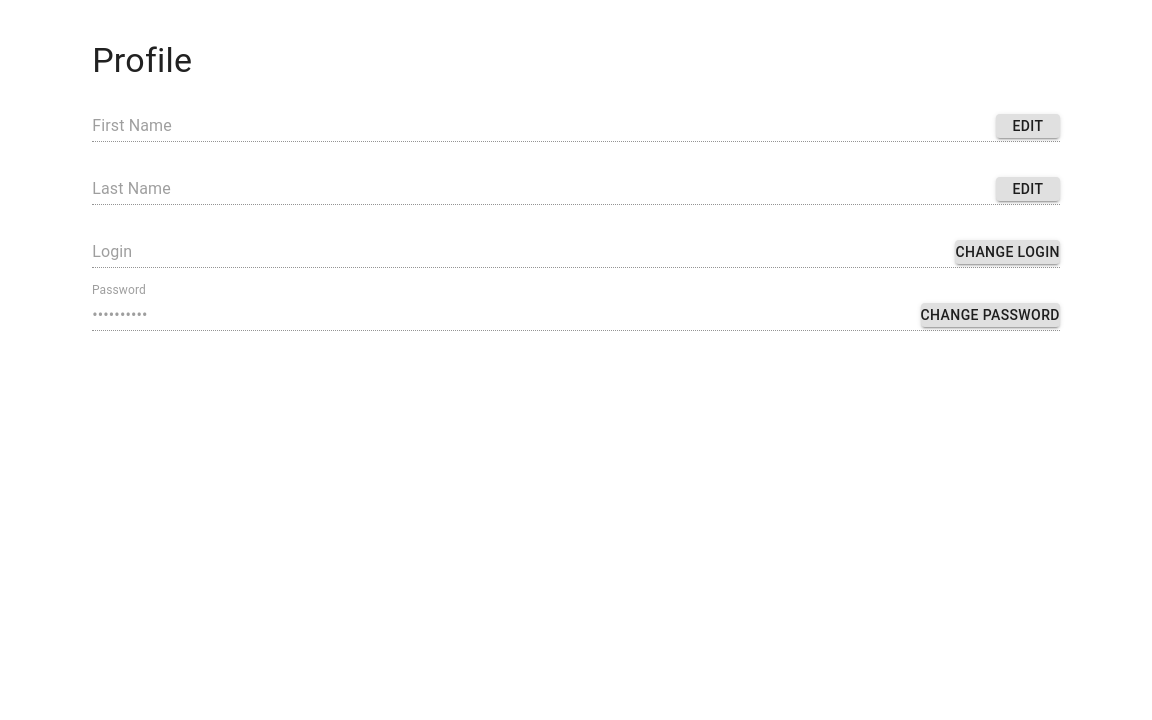
Test: Testing render › should open change name2 modal
What coordinates should you click on to do the following:
click the button "Edit" in the row of "Last Name"
I would click on:
 (1028, 189)
Its box is [996,177,1060,201].
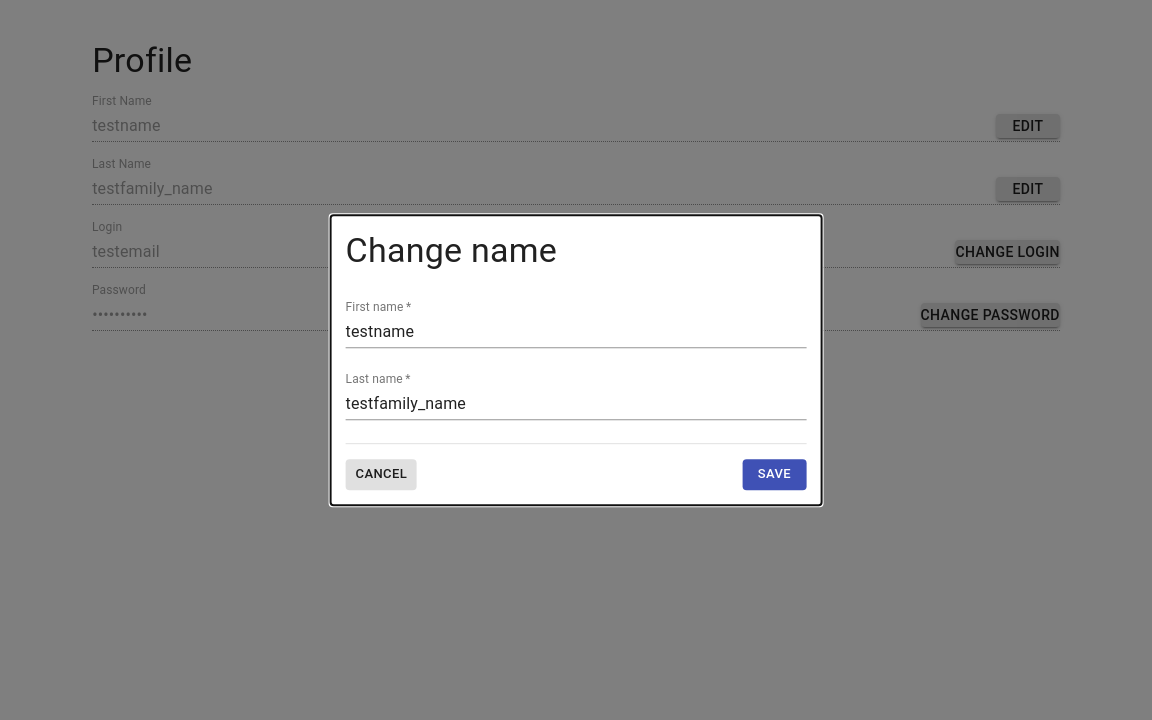
Expected: the heading "Change name" is shown, [346,230,557,270]
